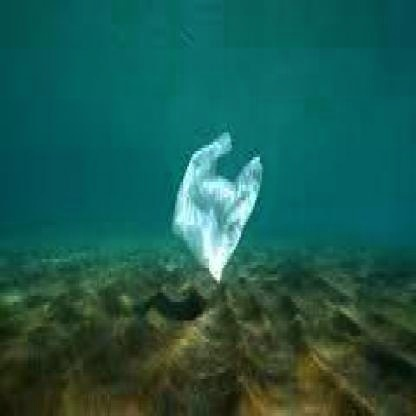pbag: (170, 130, 263, 280)
